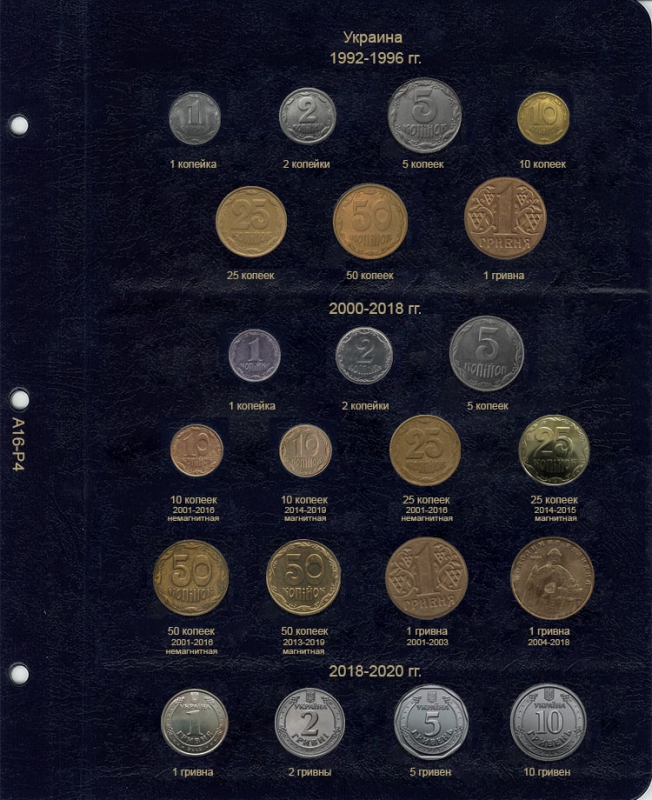coin_1: (168, 93, 221, 146), (228, 332, 280, 382)
coin_10: (169, 423, 225, 477), (279, 425, 331, 479), (519, 94, 571, 144)
coin_10_bn: (509, 684, 587, 762)
coin_1_bn: (385, 536, 467, 621), (512, 536, 594, 621), (467, 177, 545, 262), (160, 690, 229, 756)
coin_2: (335, 327, 394, 387), (279, 88, 334, 146)
coin_25: (215, 188, 288, 259), (390, 414, 461, 486), (519, 416, 589, 486)
coin_2_bn: (277, 688, 345, 760)
coin_5: (449, 316, 524, 394), (389, 81, 460, 155)
coin_50: (153, 540, 229, 617), (265, 540, 341, 617), (333, 184, 407, 259)
coin_5_bn: (396, 685, 468, 762)
